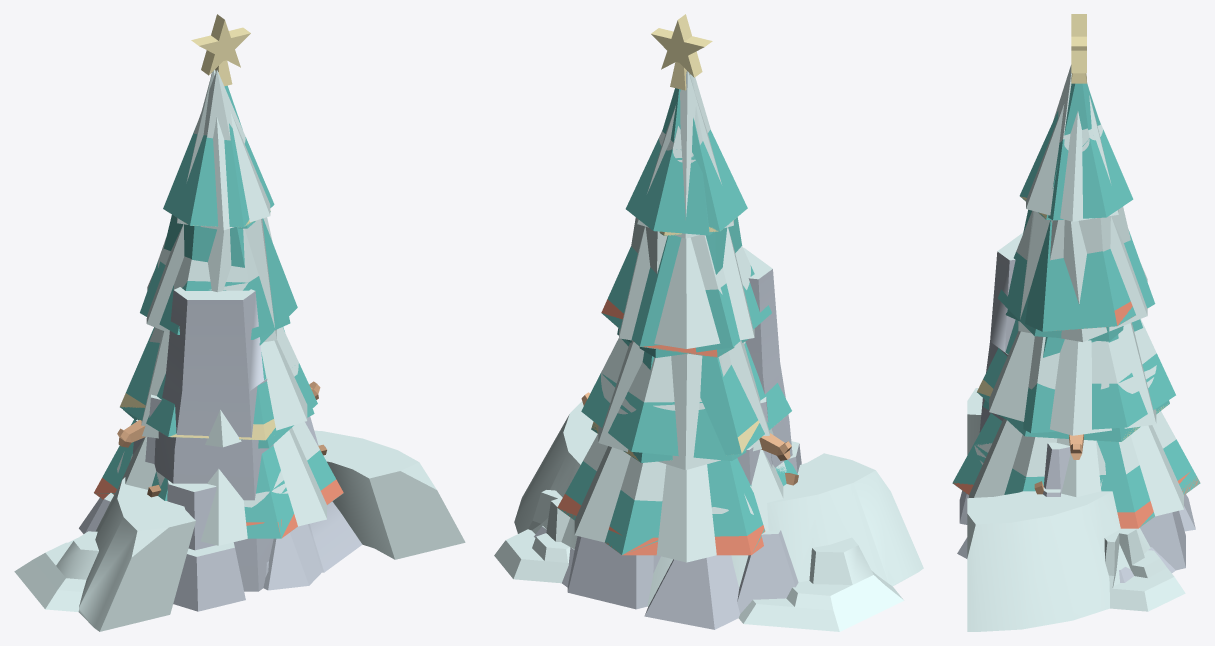
Rendered from pack_assets2.glb.
3 renders of one model, left to right at view 1: azimuth 30°, elevation 25°; view 2: azimuth 150°, elevation 25°; view 3: azimuth 270°, elevation 25°, orthographic. The views are drawn at different scales.
Parts seen in each view (by area): view 1: snowFort, rockFormationLarge, treePineSnowed, treePine, rockFormationMedium, treePineSnow, treeDecorated, treePineSnowRound, star; view 2: snowFort, treePineSnowed, treePineSnow, treePine, rockFormationMedium, treeDecorated, rockFormationLarge, treePineSnowRound, star, snowman; view 3: snowFort, treePineSnowed, treePineSnow, treePine, treePineSnowRound, treeDecorated, rockFormationMedium, rockFormationLarge, star.
Boxes of the visible parts, bbox=[...] form: snowFort: bbox=[14, 430, 465, 631]; rockFormationLarge: bbox=[85, 287, 362, 591]; treePineSnowed: bbox=[120, 70, 326, 545]; treePine: bbox=[94, 86, 343, 538]; rockFormationMedium: bbox=[79, 394, 321, 611]; treePineSnow: bbox=[123, 70, 324, 538]; treeDecorated: bbox=[94, 85, 343, 538]; treePineSnowRound: bbox=[96, 72, 316, 538]; star: bbox=[191, 14, 250, 86]; snowFort: bbox=[494, 401, 923, 631]; treePineSnowed: bbox=[574, 71, 783, 562]; treePineSnow: bbox=[563, 73, 770, 554]; treePine: bbox=[558, 118, 791, 554]; rockFormationMedium: bbox=[567, 397, 801, 629]; treeDecorated: bbox=[557, 88, 797, 555]; rockFormationLarge: bbox=[534, 247, 798, 613]; treePineSnowRound: bbox=[581, 75, 786, 552]; star: bbox=[651, 14, 712, 90]; snowman: bbox=[581, 392, 791, 460]; snowFort: bbox=[967, 388, 1185, 631]; treePineSnowed: bbox=[969, 82, 1183, 516]; treePineSnow: bbox=[953, 66, 1199, 527]; treePine: bbox=[952, 83, 1200, 525]; treePineSnowRound: bbox=[954, 65, 1175, 486]; treeDecorated: bbox=[953, 83, 1199, 528]; rockFormationMedium: bbox=[957, 442, 1195, 570]; rockFormationLarge: bbox=[979, 232, 1175, 582]; star: bbox=[1071, 14, 1086, 83].
Bounding box in the file's own units: 1.33 × 1.76 × 0.7517.
